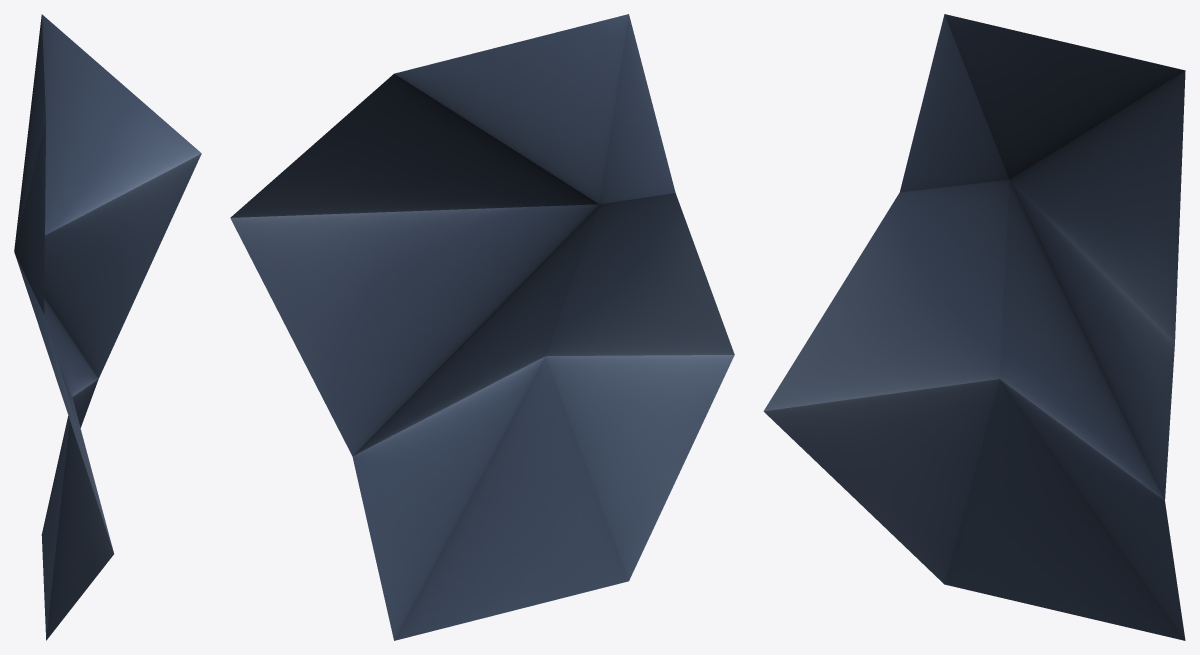
The model's file is SM_Wall_Edge_D_A.fbx.
3 views of the same model, side by side, from view 1: azimuth 30°, elevation 25°; view 2: azimuth 150°, elevation 25°; view 3: azimuth 270°, elevation 25° (orthographic). The views are drawn at different scales.
Parts seen in each view (by area): view 1: pCube186; view 2: pCube186; view 3: pCube186.
Part boxes in pixels (bbox=[...]): pCube186: bbox=[14, 14, 201, 640]; pCube186: bbox=[230, 14, 734, 640]; pCube186: bbox=[763, 14, 1185, 640].
Bounding box in the file's own units: 0.5692 × 1 × 0.6705.
